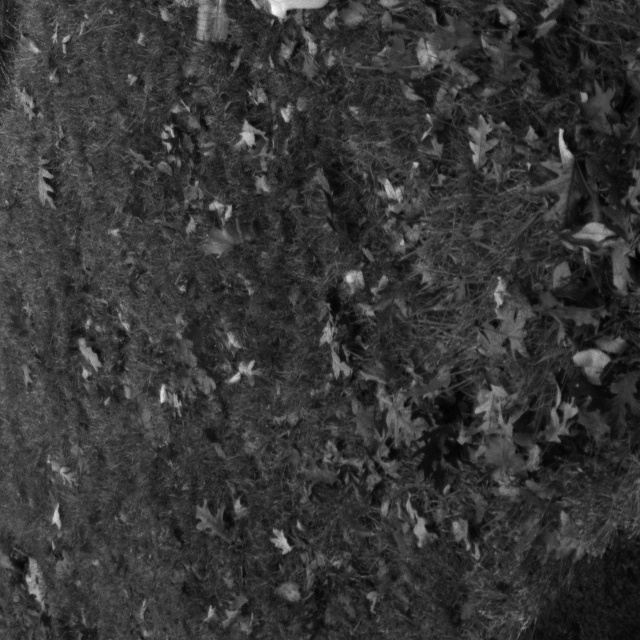bottle: (181, 0, 238, 56)
